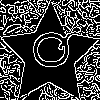Q: (24, 30, 71, 70)
